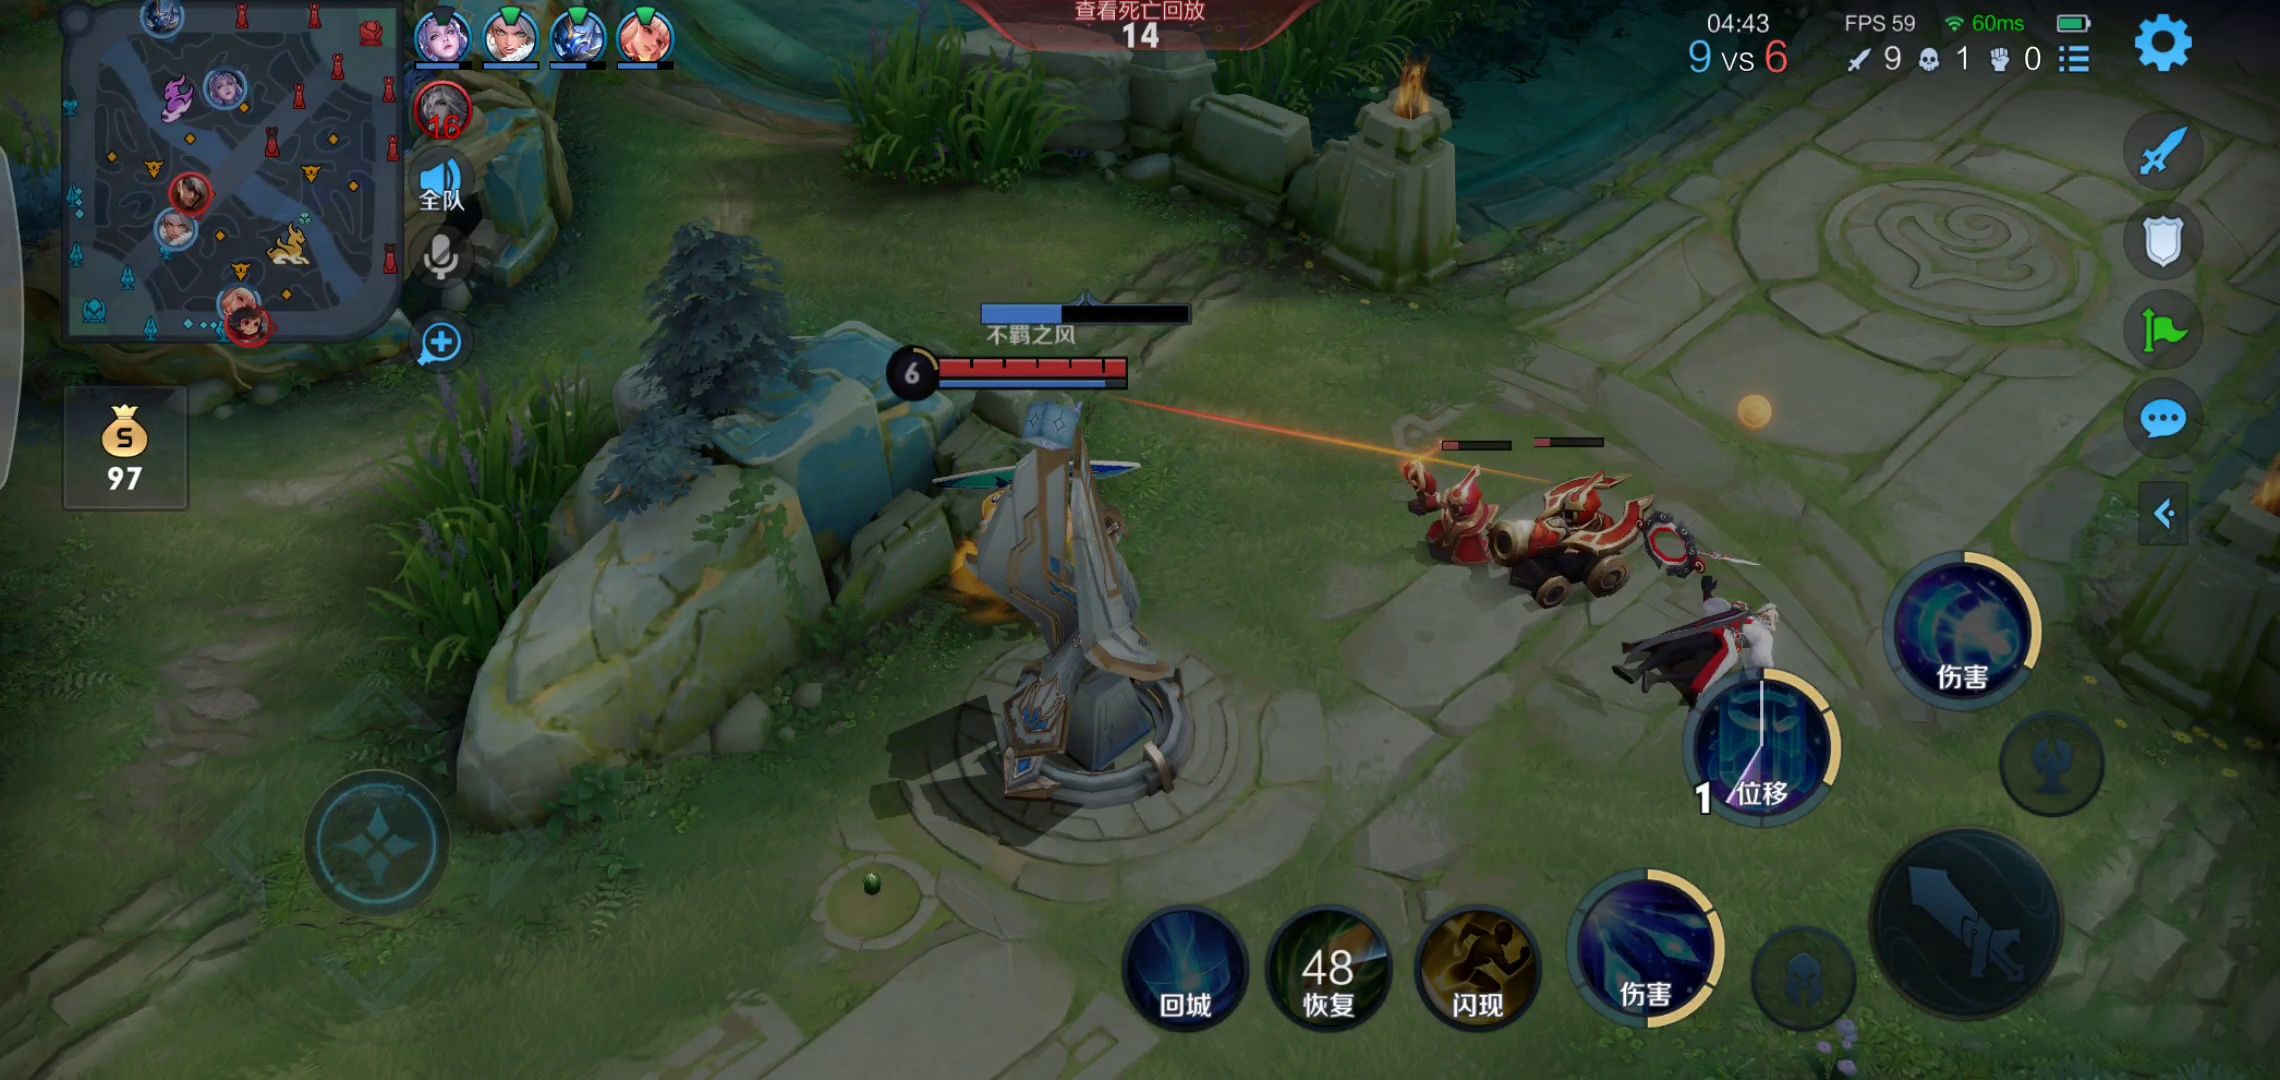grass: (374, 371, 587, 720), (813, 25, 1060, 190), (1192, 1, 1613, 92)
soldier: (1499, 481, 1678, 624), (1405, 448, 1498, 564)
tower: (932, 392, 1208, 792)
